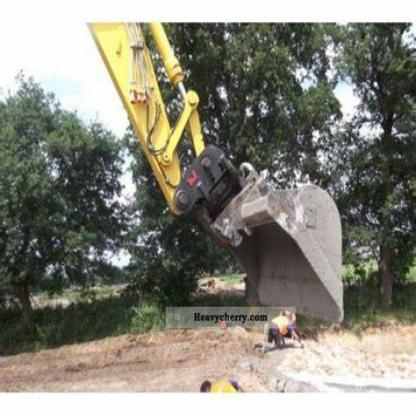excavator: (84, 21, 350, 335)
